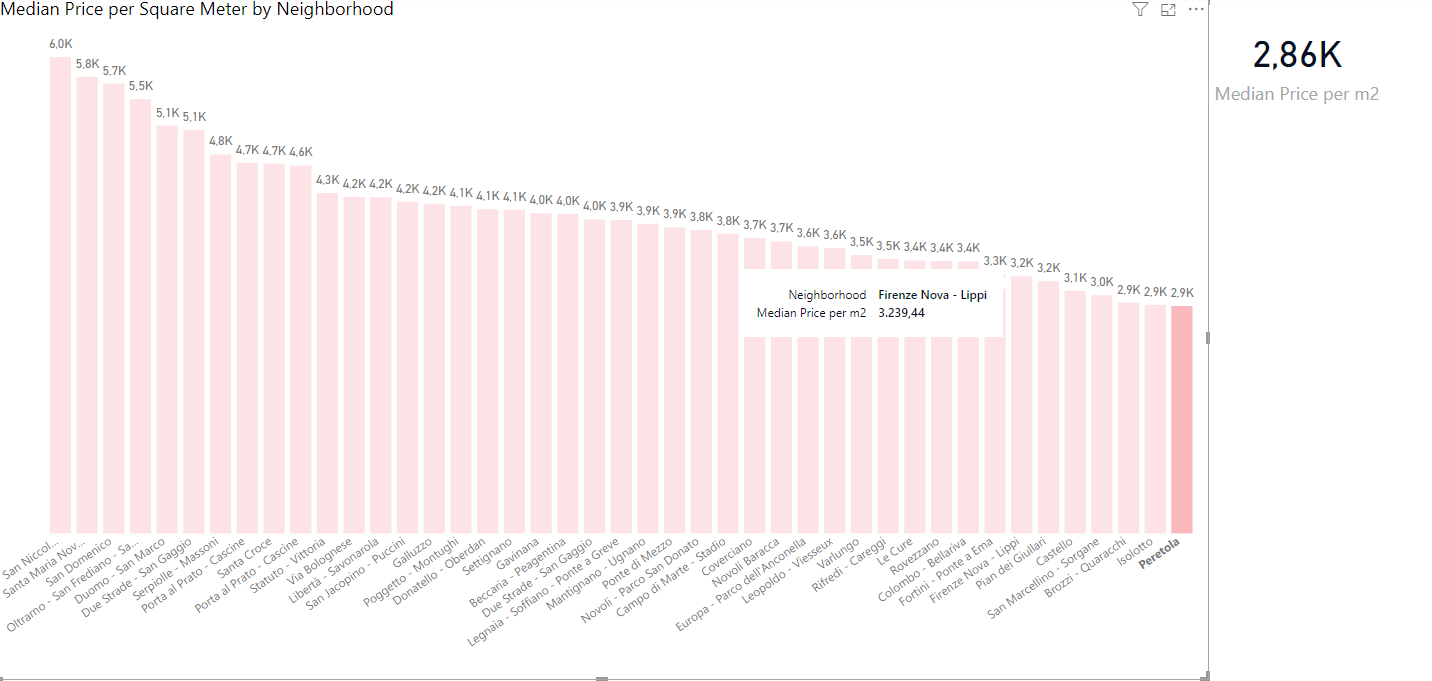

Layout of this report page (visuals, bound fields, positions):
{"tool":"powerbi","page":{"name":"Neighborhood Price Analysis","canvas":[1280,720],"ordinal":0},"visuals":[{"type":"clusteredColumnChart","title":"Median Price per Square Meter by Neighborhood","fields":{"Category":["Firenze Idealista.Neighborhood"],"Y":["Firenze Idealista.Median Price per m2"]},"box":[0,0,1077.3,606.5],"z":0},{"type":"card","fields":{"Values":["Firenze Idealista.Median Price per m2"]},"box":[1030.3,0,250,119.7],"z":1000},{"type":"advancedSlicerVisual","fields":{"Values":["Firenze Idealista.Number of rooms"]},"box":[1077,120,203,487],"z":2000}]}

Visuals, with their boxes on the page's 1280x720 design canvas (x1, y1, x2, y2). These are canvas units, not pixel positions in the 1432x681 screenshot, which may show the page scaled, cropped or inside an application window:
"Median Price per Square Meter by Neighborhood" clusteredColumnChart: (left=0, top=0, right=1077, bottom=606)
card - Firenze Idealista.Median Price per m2: (left=1030, top=0, right=1280, bottom=120)
advancedSlicerVisual - Firenze Idealista.Number of rooms: (left=1077, top=120, right=1280, bottom=607)
